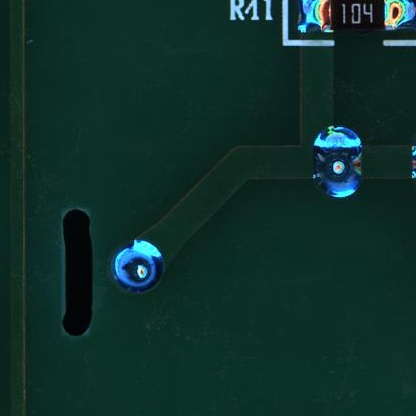spot: (315, 121, 364, 203), (109, 237, 165, 295)
